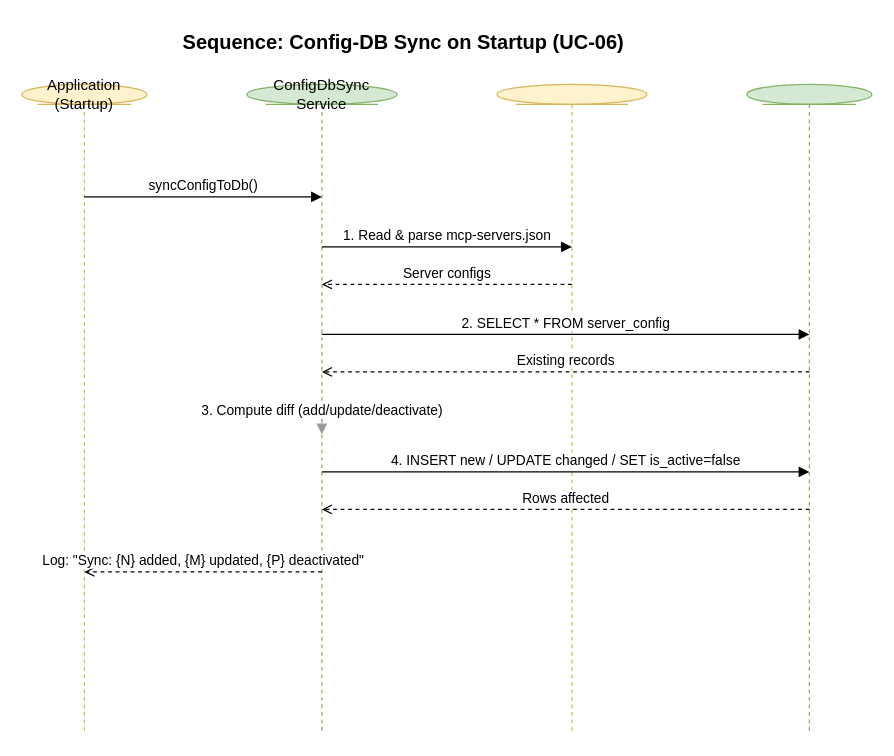
This 894x756 diagram has some shape labels left out. Here are the shapes that lost their labels. From the top down, the box of each, then its label:
(496, 83, 647, 734): Config File (mcp-servers.json)
(746, 83, 872, 734): PostgreSQL
